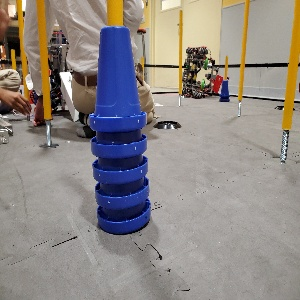Blue_2: (219, 80, 229, 100)
Blue_5: (88, 25, 150, 233)
